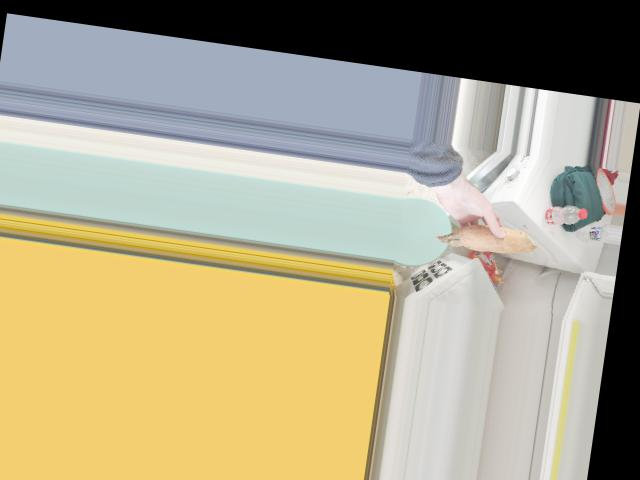sweet_potato: (437, 211, 527, 256)
